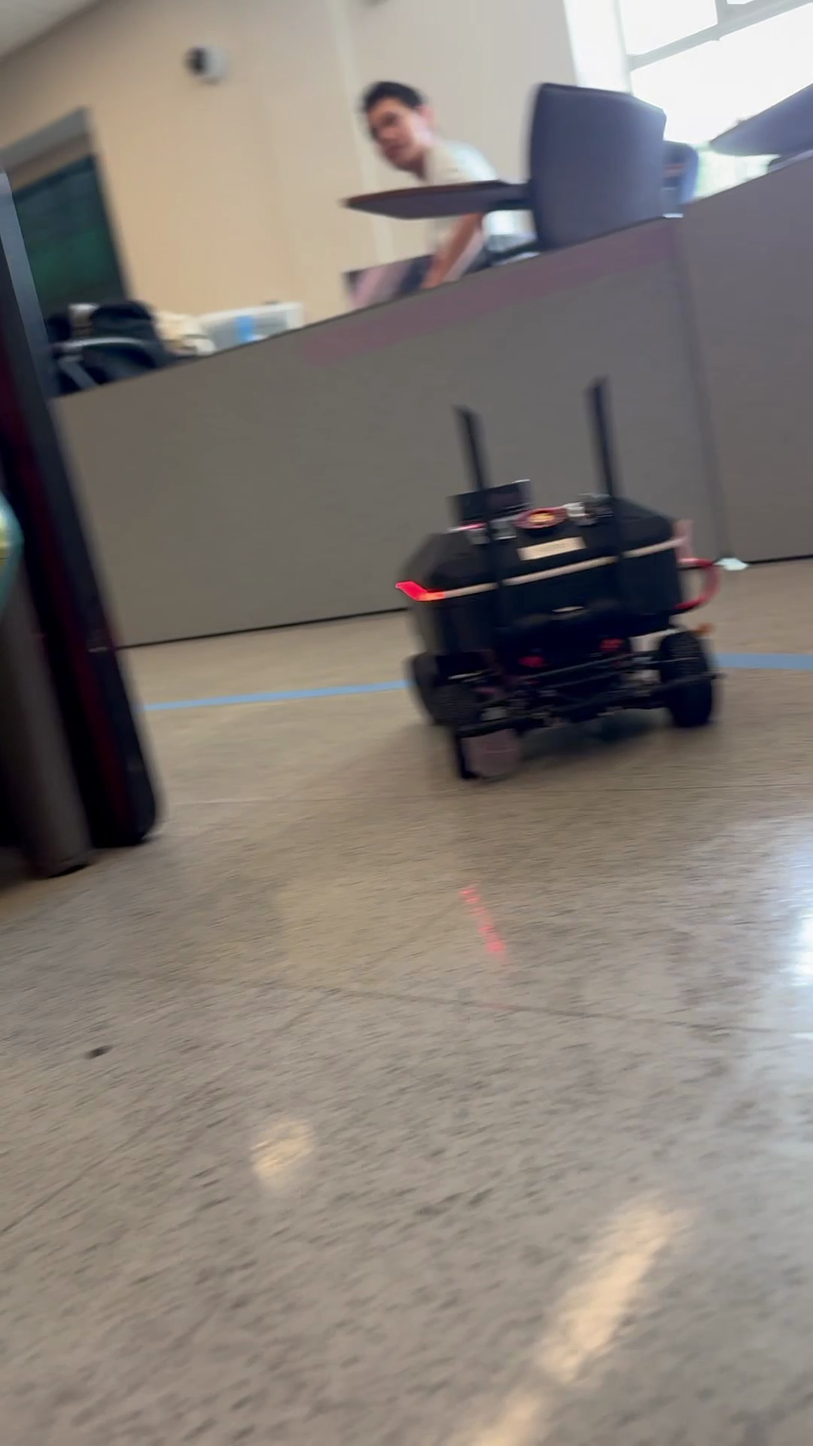racecar: (395, 378, 718, 783)
